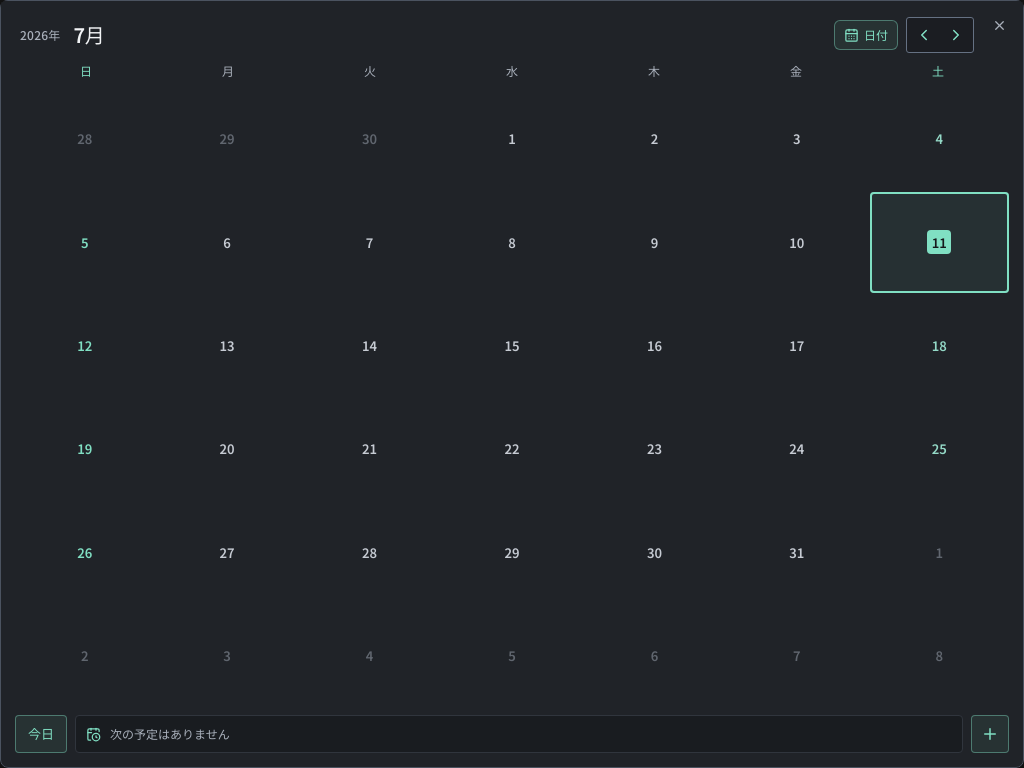
CalendarOverlay window coordination › shows a retry action when the event editor cannot be opened
Click the button named "7月11日".
click(939, 242)  # box top-left (870, 192), bottom-right (1009, 293)
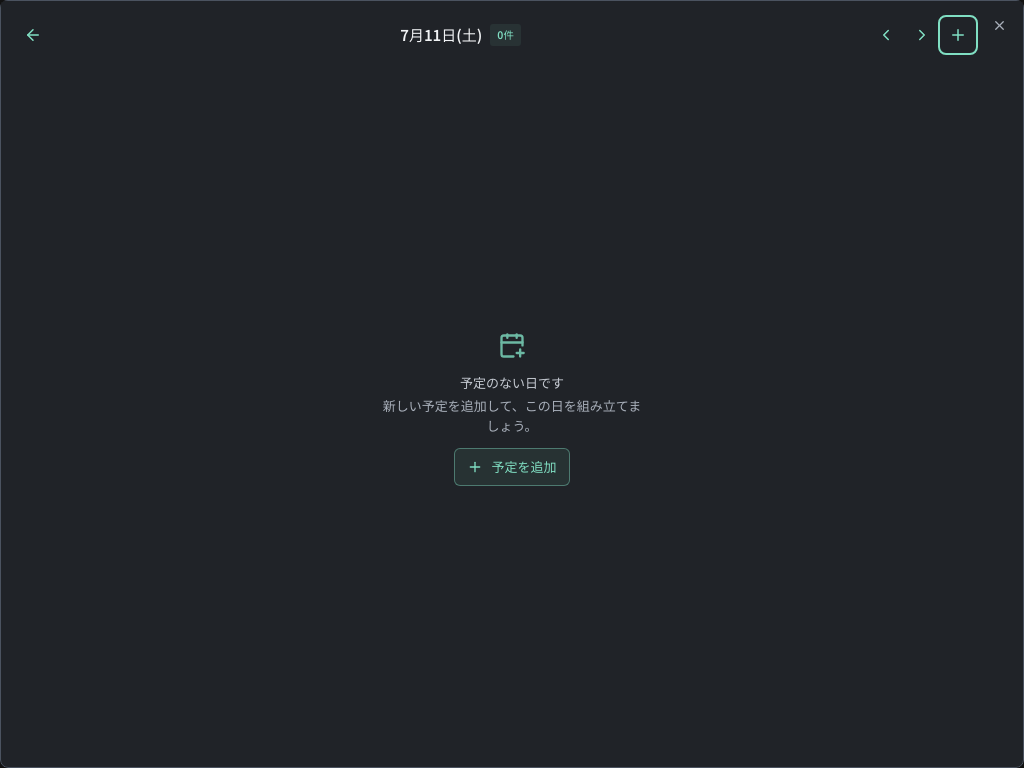
Click the button named "この日に予定を追加".
click(958, 35)  # box top-left (942, 19), bottom-right (974, 51)
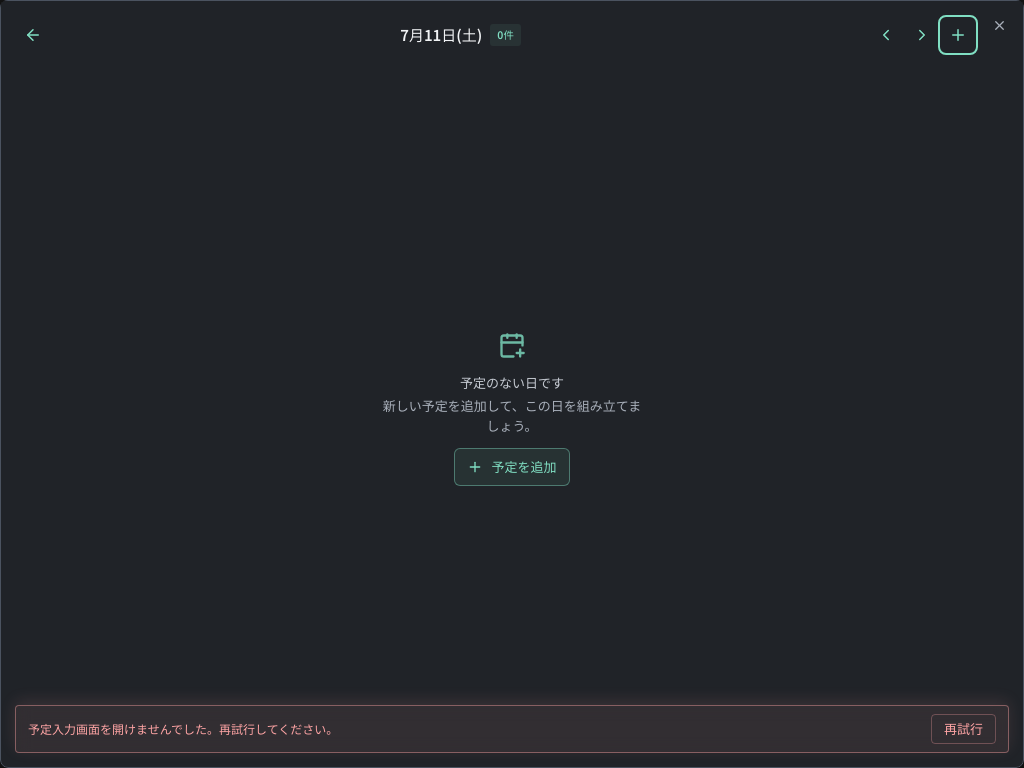
Now the message shows "予定入力画面を開けませんでした。再試行してください。", box top-left (28, 720), bottom-right (338, 737)
Click the button "再試行".
click(964, 729)  # box top-left (931, 714), bottom-right (996, 744)
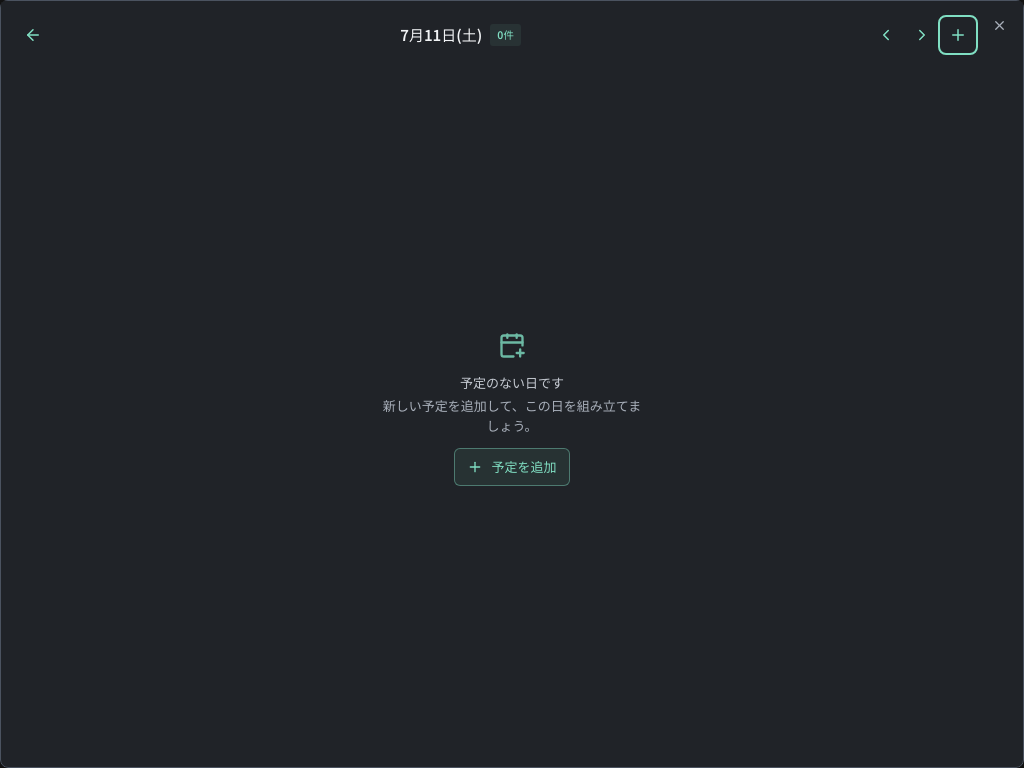
Now the message "予定入力画面を開けませんでした。再試行してください。 再試行" is gone
